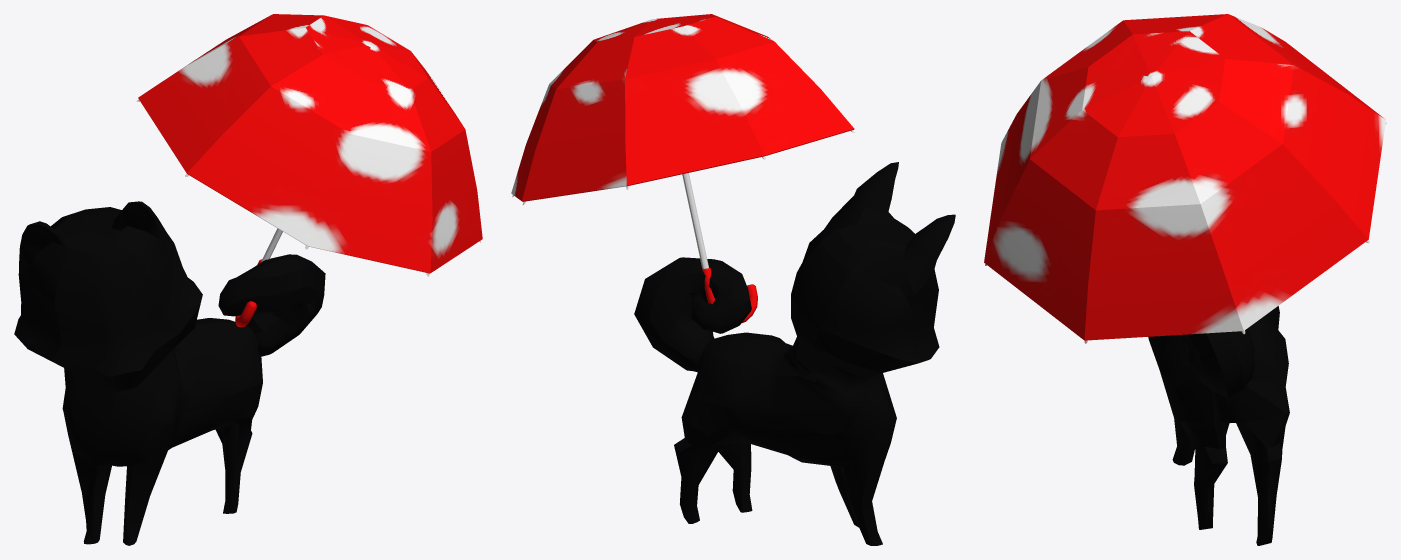
Rendered from umbrella_Frame29.obj.
3 views of the same model, side by side, from view 1: azimuth 30°, elevation 25°; view 2: azimuth 150°, elevation 25°; view 3: azimuth 270°, elevation 25° (orthographic). The views are drawn at different scales.
Parts seen in each view (by area): view 1: polySurface4, newRigging:BodzL1; view 2: newRigging:BodzL1, polySurface4; view 3: polySurface4, newRigging:BodzL1.
Boxes of the visible parts, box(x1,y1,x2,y2) form: polySurface4: box(136, 14, 482, 327); newRigging:BodzL1: box(14, 201, 325, 545); newRigging:BodzL1: box(634, 162, 955, 545); polySurface4: box(511, 14, 854, 322); polySurface4: box(984, 14, 1386, 343); newRigging:BodzL1: box(1148, 306, 1289, 545).
Size of the model in its own units: 10.01 by 10.51 by 7.17.
Materials: 2 (1 with a texture image).
